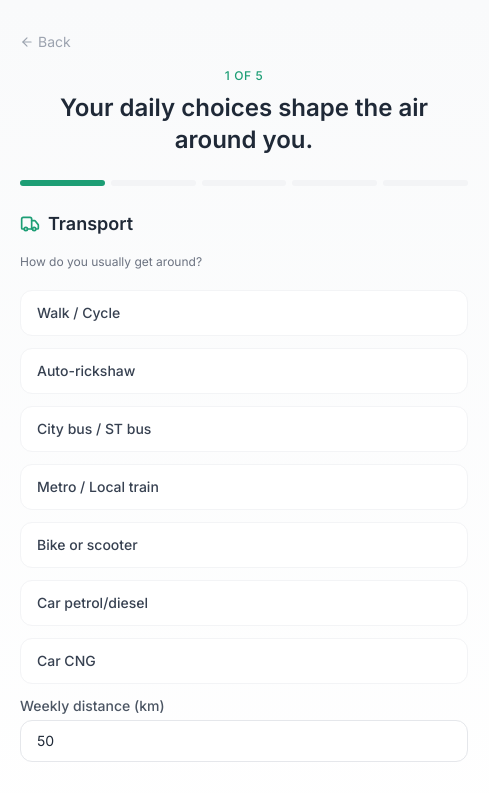
Scenario: App Component Tests › navigation back button from Quiz to Language Selection and going previous in sections
Earlier steps of the test are not shown.
Step 1. Click the button with aria-label "Go back" → click(45, 42), box [20,32,71,52]
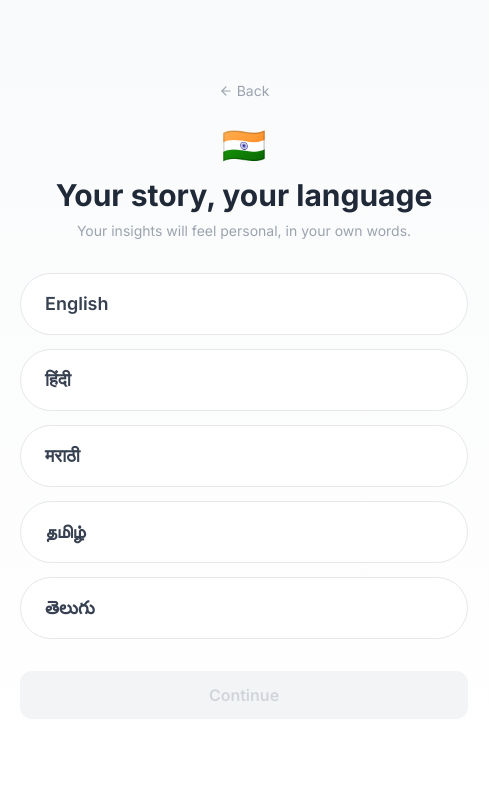
Now the heading "Your story, your language" is shown, box [56,177,432,213]
Step 2. Click the button with aria-label "Select English" → click(77, 304), box [20,273,468,335]
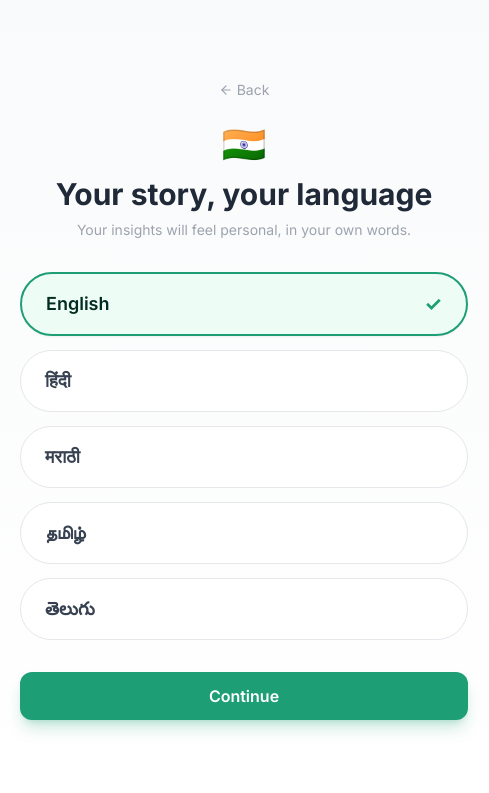
Step 3. Click the button with aria-label "Continue to quiz" → click(244, 696), box [20,672,468,720]
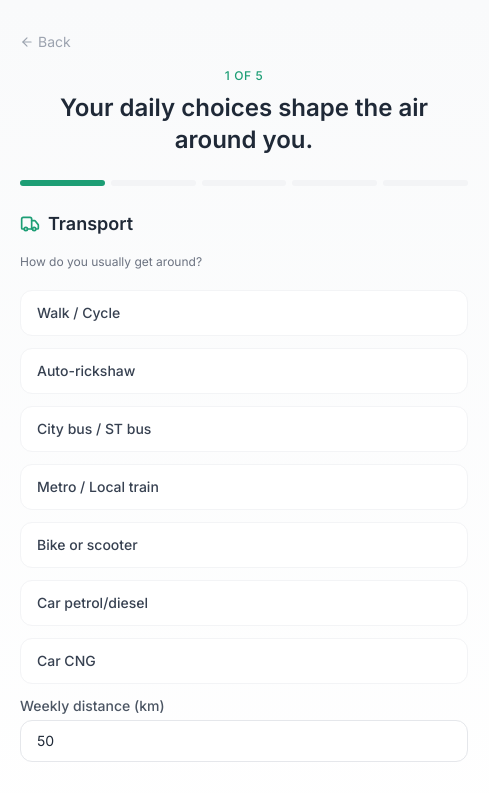
Step 4. Click the button with aria-label "Select Auto-rickshaw" → click(86, 370), box [20,348,468,394]
(page scrolled)
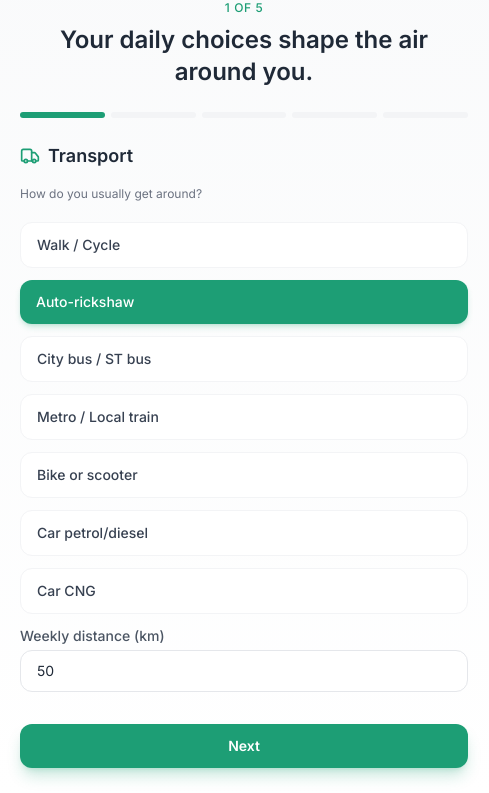
Step 5. Click the button with aria-label "Next section" → click(244, 746), box [20,724,468,768]
(page scrolled)
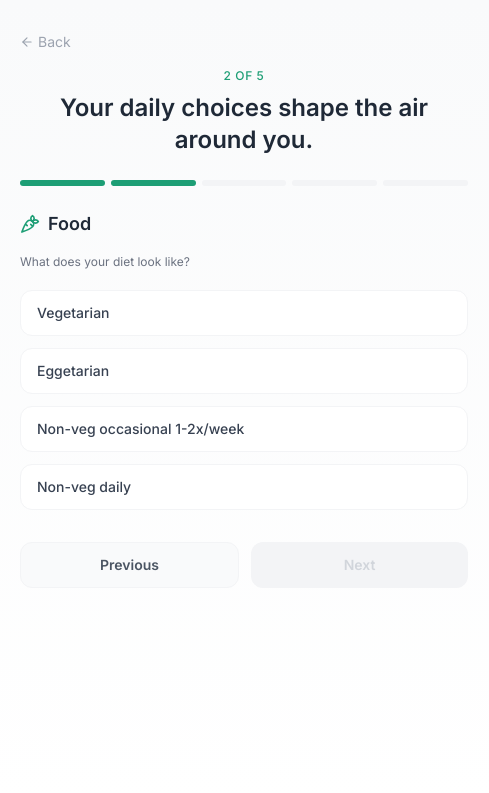
Step 6. Click the button with aria-label "Previous section" → click(130, 565), box [20,542,239,588]
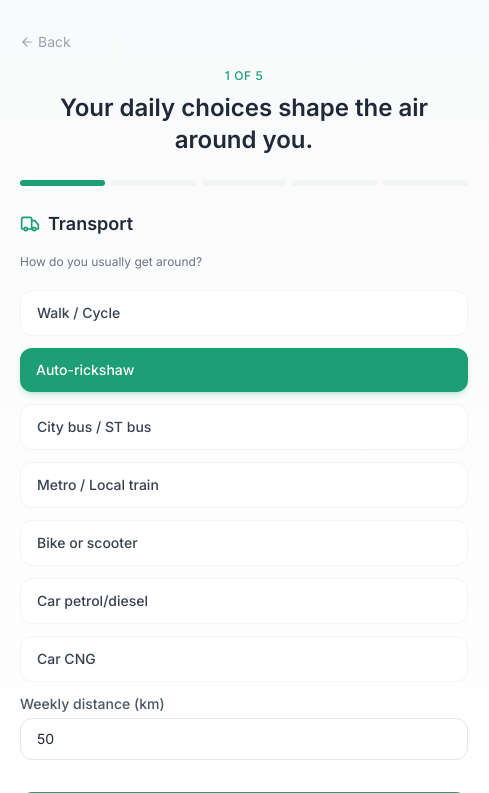
Now the heading "Transport" is shown, box [48,210,133,238]
